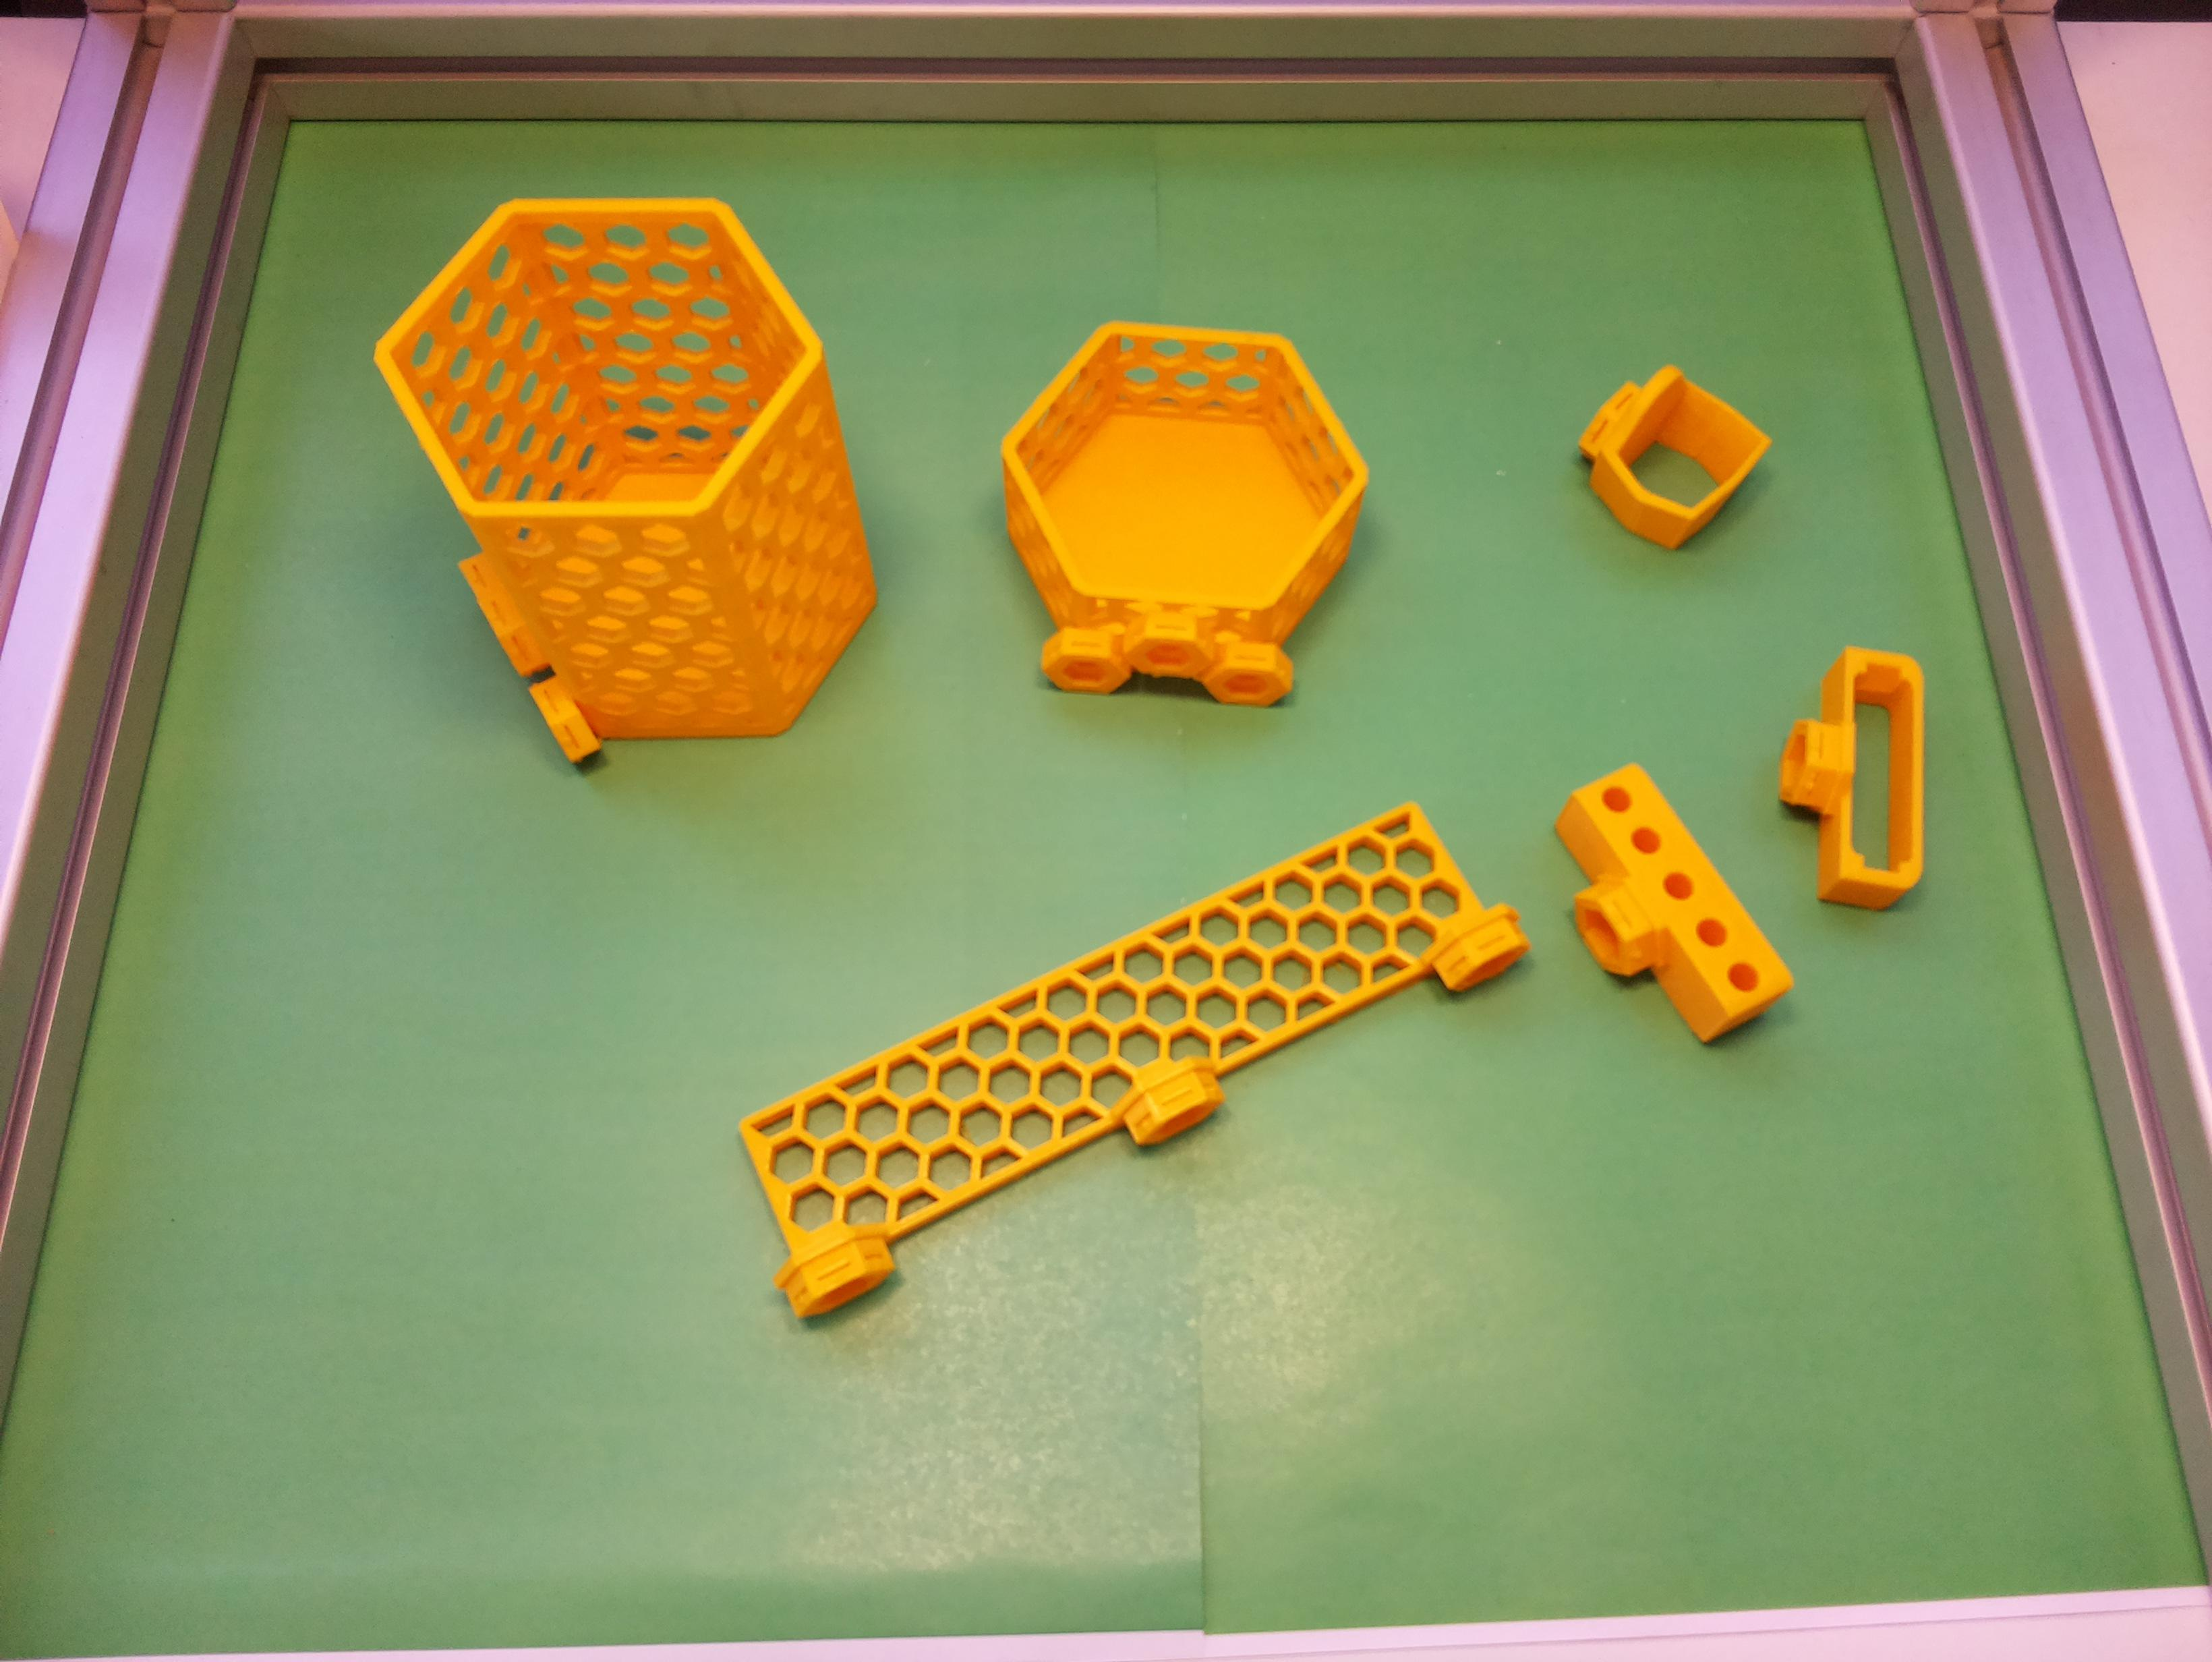bit_holder: (1510, 751, 1800, 1074)
bottle_holder: (985, 314, 1377, 712)
cup_holder: (339, 112, 953, 821)
cutter_holder: (1779, 646, 1924, 908)
scissor_holder: (1552, 344, 1774, 566)
tool_holder: (704, 768, 1538, 1327)
